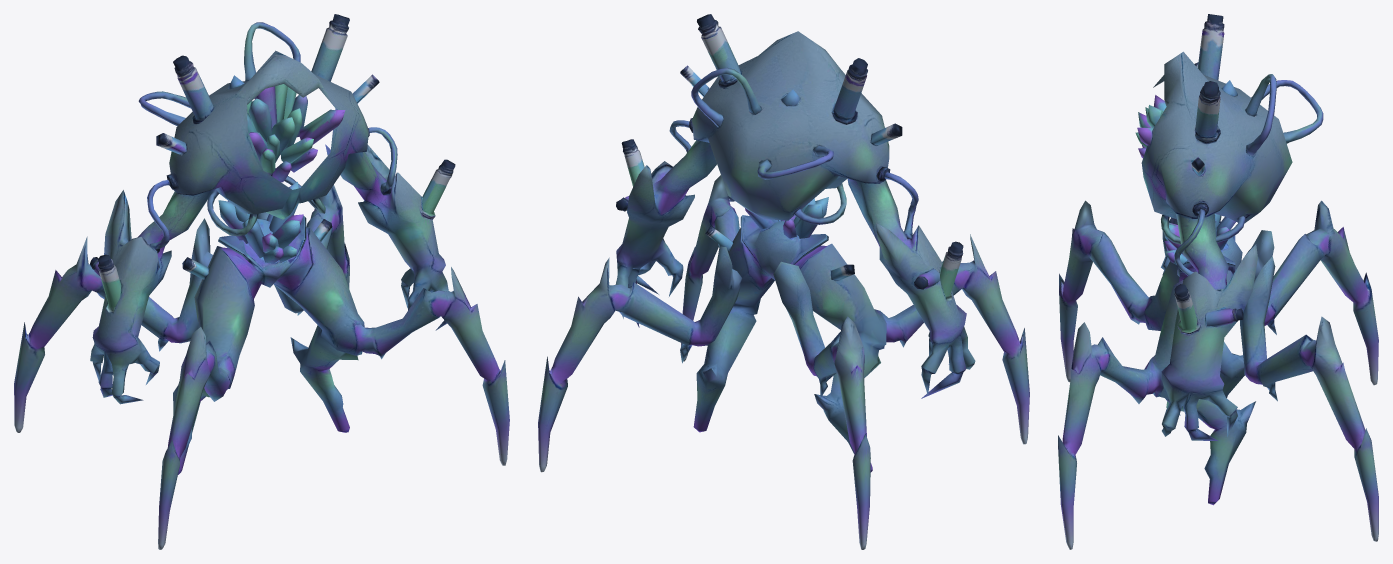
The model's file is 019e2e83-9de8-7322-b73f-4ca23c1bdb0c.glb.
3 views of the same model, side by side, from view 1: azimuth 30°, elevation 25°; view 2: azimuth 150°, elevation 25°; view 3: azimuth 270°, elevation 25° (orthographic).
Visible parts, largest first — view 1: tripo_node_15f600c6-ba59-4698-8d09-e9c4da8f0fd2; view 2: tripo_node_15f600c6-ba59-4698-8d09-e9c4da8f0fd2; view 3: tripo_node_15f600c6-ba59-4698-8d09-e9c4da8f0fd2.
Boxes of the visible parts, x1,y1,x2,y2 form: tripo_node_15f600c6-ba59-4698-8d09-e9c4da8f0fd2: (14,14,509,549); tripo_node_15f600c6-ba59-4698-8d09-e9c4da8f0fd2: (538,14,1029,549); tripo_node_15f600c6-ba59-4698-8d09-e9c4da8f0fd2: (1058,14,1378,549).
Bounding box in the file's own units: 0.875 × 0.998 × 0.6895.
Materials: 1 (1 with a texture image).
